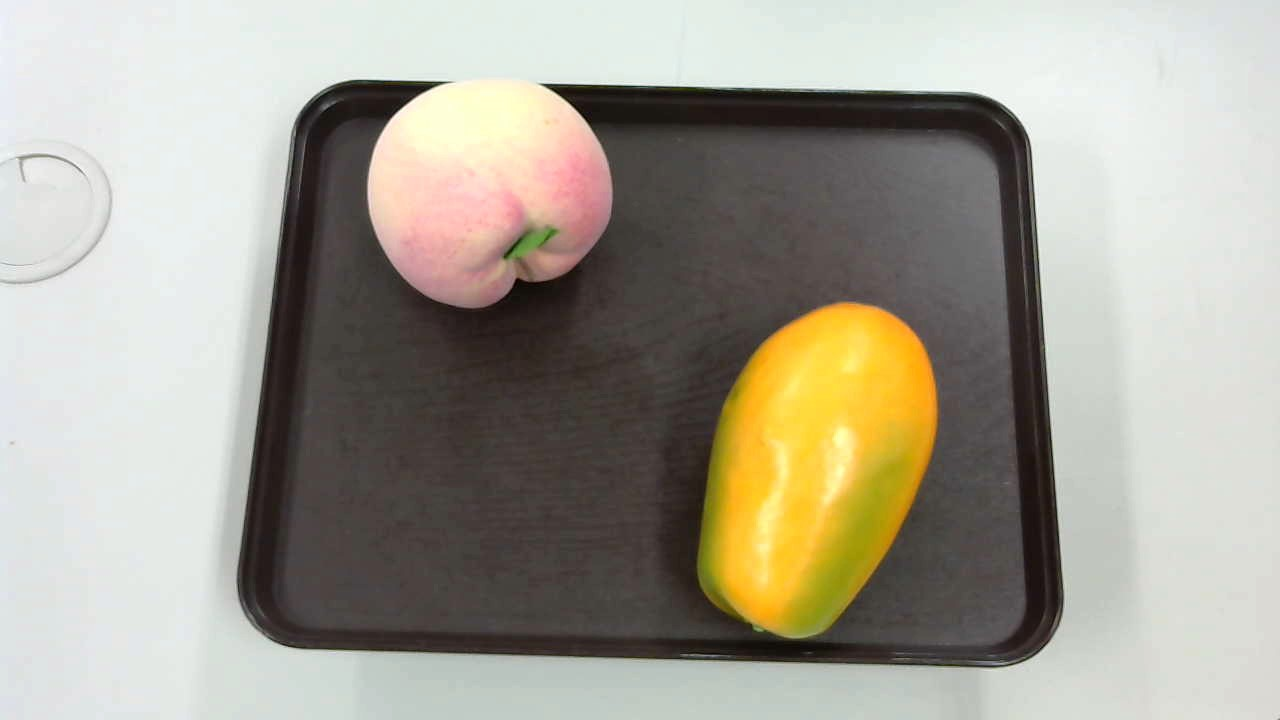papya: (695, 295, 940, 646)
peach: (361, 79, 612, 318)
